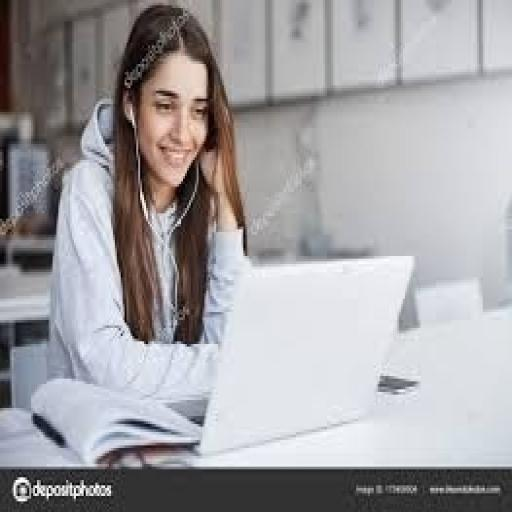using_laptop: (160, 251, 416, 456)
